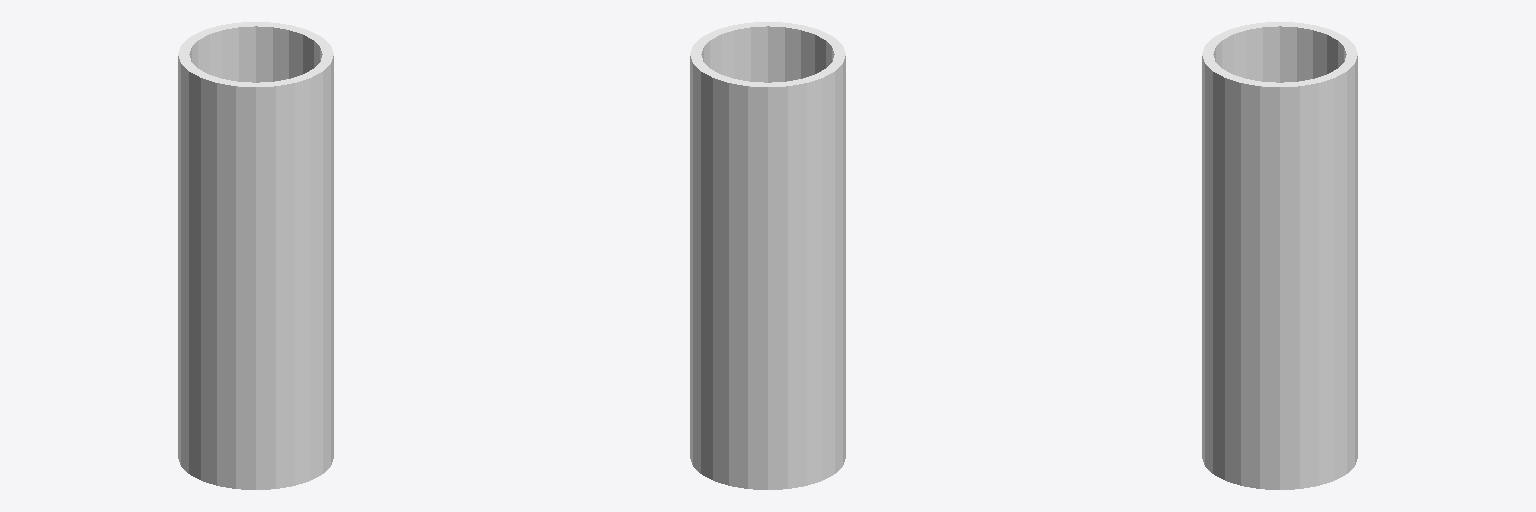
Rendered from Pipe4m.obj.
3 renders of one model, left to right at view 1: azimuth 30°, elevation 25°; view 2: azimuth 150°, elevation 25°; view 3: azimuth 270°, elevation 25°, orthographic.
Parts seen in each view (by area): view 1: Pipe4m_g_4556-Default_Material; view 2: Pipe4m_g_4556-Default_Material; view 3: Pipe4m_g_4556-Default_Material.
Boxes of the visible parts, box(x1,y1,x2,y2) form: Pipe4m_g_4556-Default_Material: box(178, 22, 333, 489); Pipe4m_g_4556-Default_Material: box(690, 22, 845, 489); Pipe4m_g_4556-Default_Material: box(1202, 22, 1357, 489).
Bounding box in the file's own units: 1.4 × 4 × 1.4.